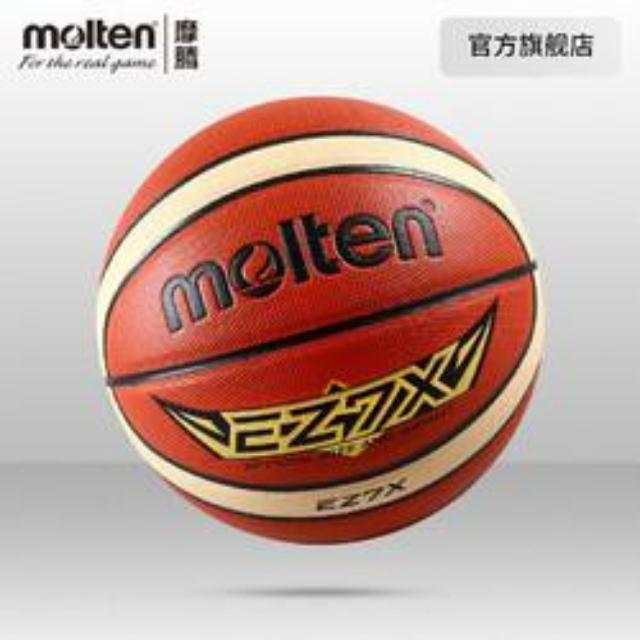basketball: (100, 95, 544, 545)
